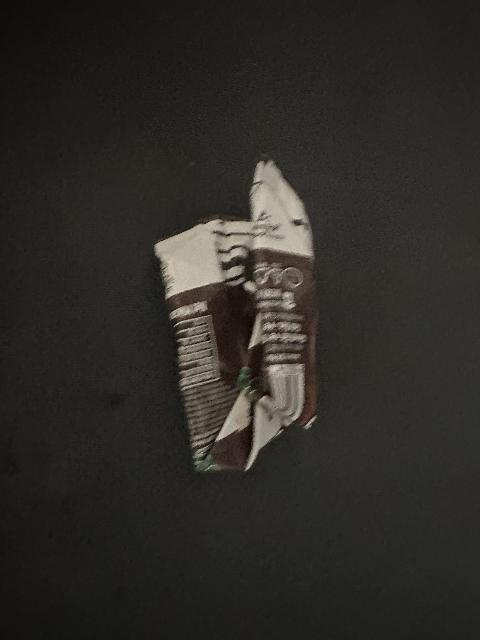Kagit: (144, 135, 335, 468)
